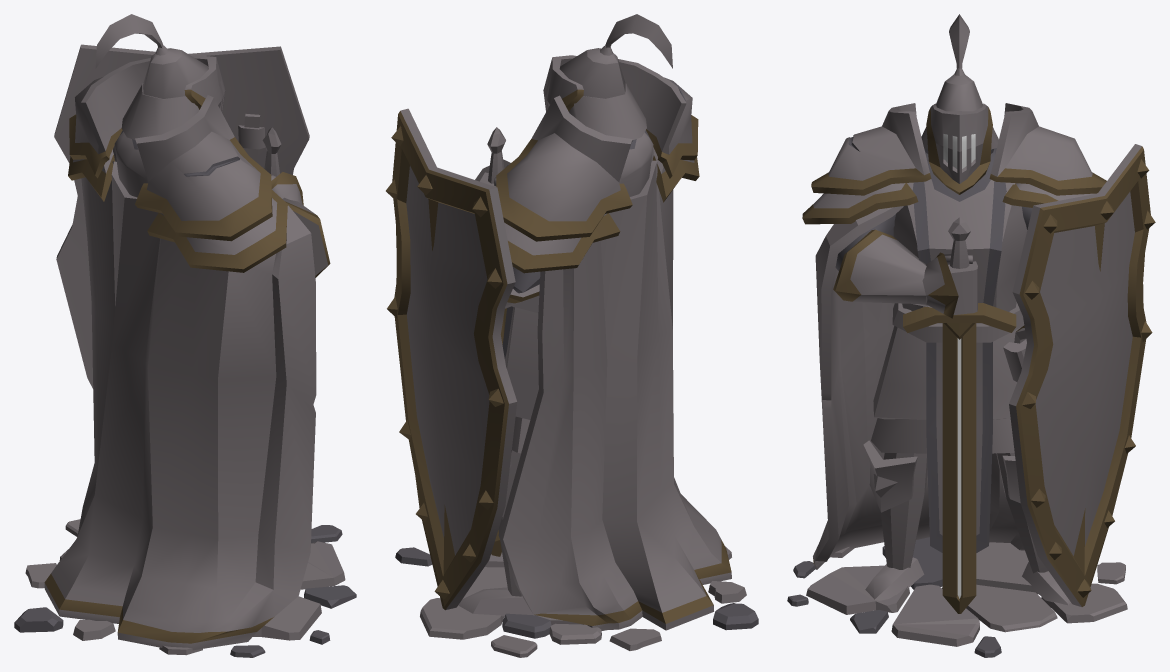
Rendered from Рыцарь.fbx.
The picture shows the model from 3 angles, left to right: view 1: azimuth 30°, elevation 25°; view 2: azimuth 150°, elevation 25°; view 3: azimuth 270°, elevation 25°; orthographic projection. The views are drawn at different scales.
Parts seen in each view (by area): view 1: Plane, Cube.037, Cube.023, Cube.026, Cube.022, Cylinder.008, Cylinder.005, Cube.002, Base, Cube.021, Cube.025, Cylinder.006 (+8 smaller); view 2: Plane, Cube.037, Cube.026, Cube.023, Cube.024, Cylinder.003, Cylinder.008, Cylinder.005, Cube.004, Cube.021, Cube.044, Cube.025 (+10 smaller); view 3: Cube.037, Plane, Cube.021, Sword, Cube.023, Cube.026, Cylinder.003, Cylinder.012, Cylinder.006, Base, Plane.001, Cube.001 (+22 smaller).
Part boxes in pixels (x1,y1,x2,y2): Plane: (44, 161, 316, 650); Cube.037: (54, 44, 309, 388); Cube.023: (135, 95, 272, 241); Cube.026: (69, 58, 150, 178); Cube.022: (147, 190, 287, 272); Cylinder.008: (121, 83, 199, 139); Cylinder.005: (143, 48, 208, 98); Cube.002: (253, 596, 321, 640); Base: (300, 541, 345, 589); Cube.021: (114, 130, 148, 197); Cube.025: (95, 14, 163, 68); Cylinder.006: (184, 55, 225, 113); Plane: (498, 160, 731, 630); Cube.037: (392, 108, 517, 610); Cube.026: (496, 95, 632, 241); Cube.023: (618, 59, 698, 178); Cube.024: (504, 213, 620, 273); Cylinder.003: (505, 307, 538, 419); Cylinder.008: (568, 83, 646, 140); Cylinder.005: (559, 48, 625, 107); Cube.004: (420, 598, 504, 639); Cube.021: (502, 130, 653, 358); Cube.044: (458, 587, 538, 616); Cube.025: (605, 14, 672, 68); Cube.037: (1009, 144, 1150, 606); Plane: (813, 206, 1024, 569); Cube.021: (912, 148, 1006, 552); Sword: (942, 323, 976, 613); Cube.023: (811, 103, 931, 195); Cube.026: (989, 103, 1106, 195); Cylinder.003: (873, 326, 1021, 419); Cylinder.012: (833, 229, 927, 306); Cylinder.006: (926, 103, 992, 194); Base: (891, 584, 979, 646); Plane.001: (893, 182, 1027, 311); Cube.001: (942, 584, 1057, 632).
Bounding box in the file's own units: 542 × 890 × 551.
